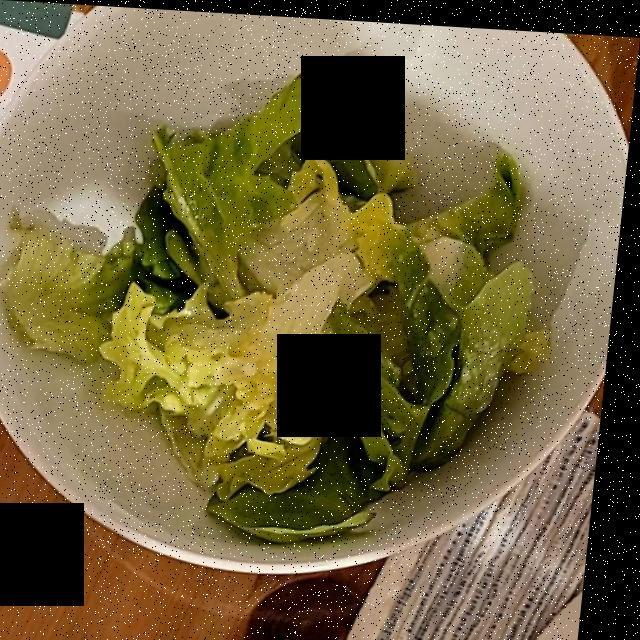salad: (9, 86, 545, 535)
